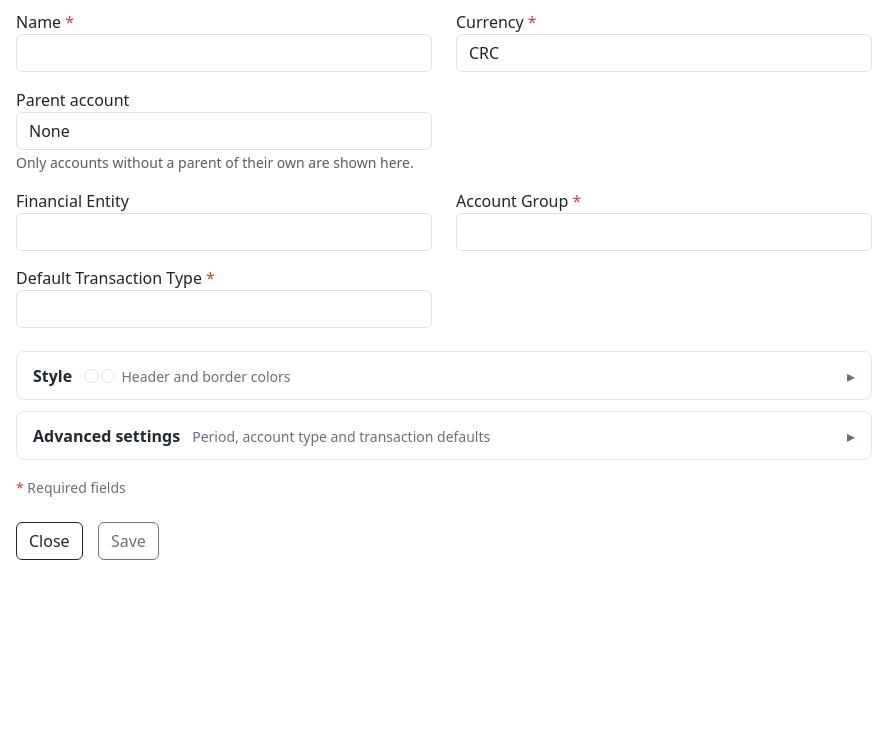
NewAccountComponent main account template › advanced settings › opens when the toggle is clicked
The image size is (889, 736).
What coordinates should you click on to do the following:
click the button with id "advanced-toggle"
I would click on:
 (444, 436)
Its box is [17,412,871,459].
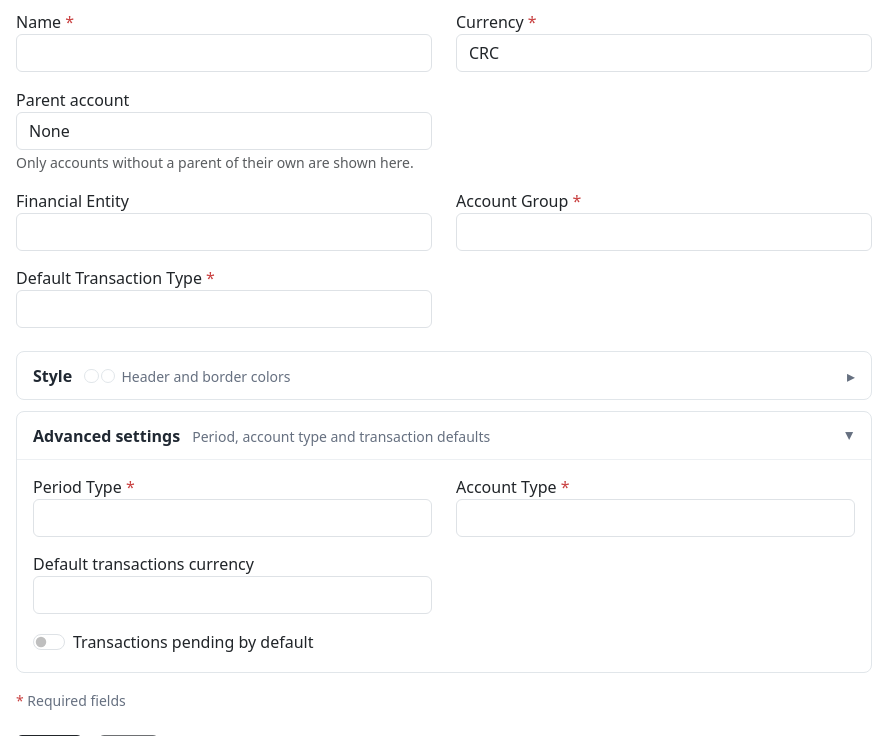
Expected: the button with id "advanced-toggle" is expanded, [17,412,871,459]
